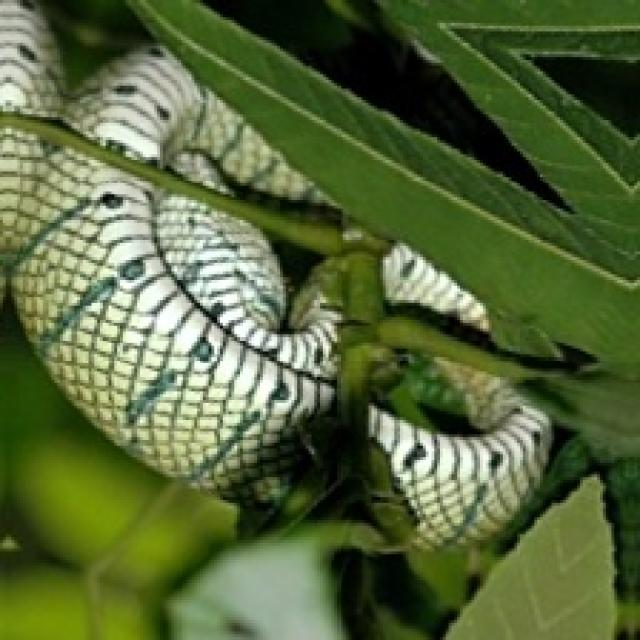north ph temple pitviper: (0, 0, 486, 331), (0, 126, 343, 517), (360, 357, 551, 546)
